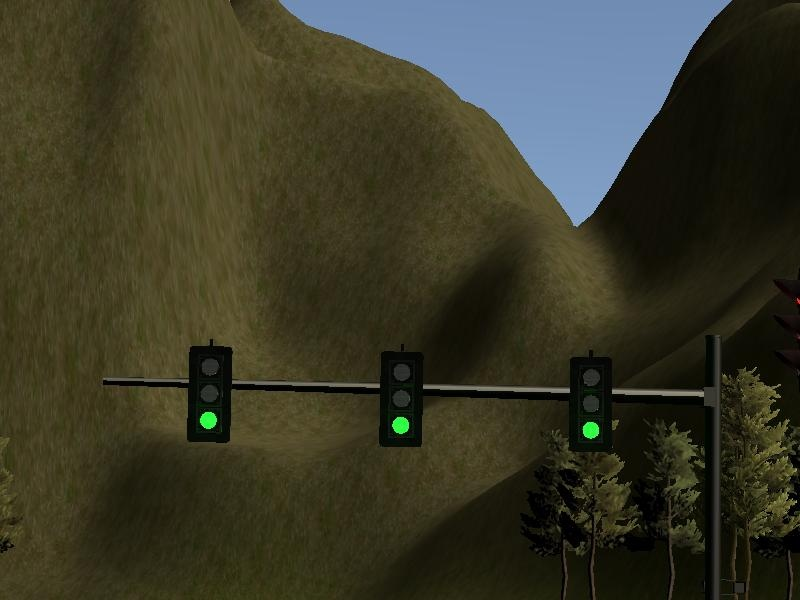green: (186, 345, 233, 442), (378, 353, 425, 450), (564, 356, 611, 453)
